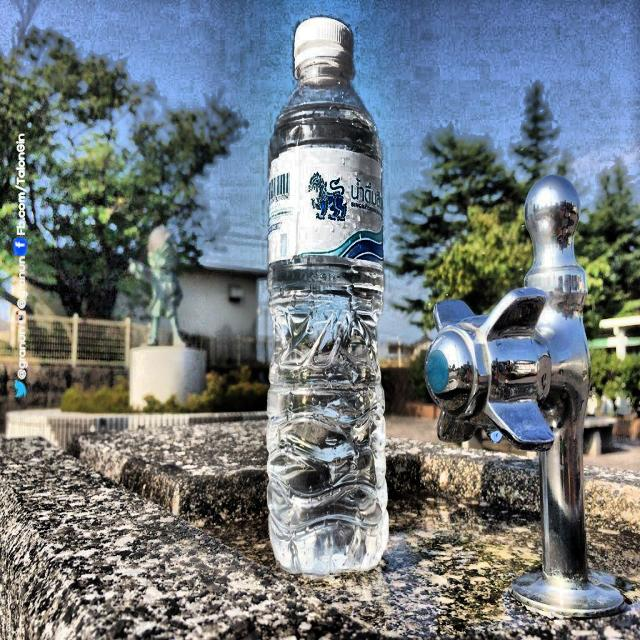Bottles: (246, 15, 414, 592)
